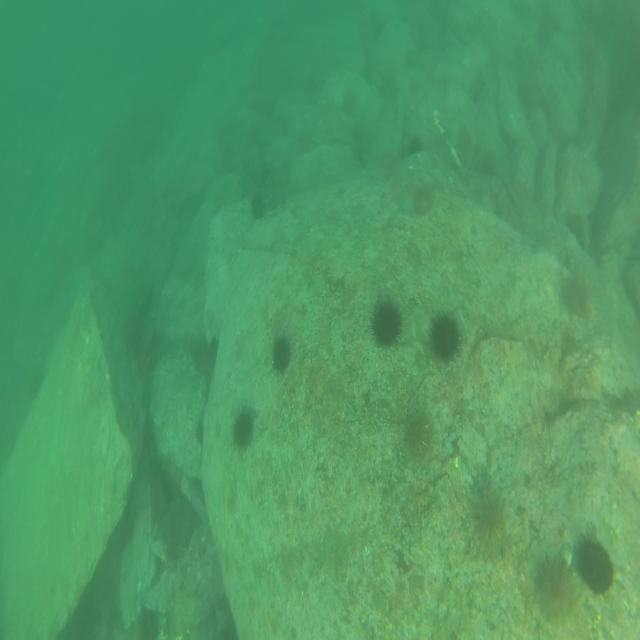echinus: (537, 550, 572, 622), (577, 536, 615, 594), (474, 490, 505, 559), (371, 300, 405, 350), (402, 409, 436, 458), (428, 311, 462, 357), (562, 280, 589, 320), (234, 408, 258, 450), (271, 337, 293, 370), (566, 213, 587, 246), (293, 126, 316, 153), (481, 147, 501, 177), (250, 189, 268, 220), (138, 610, 158, 637), (414, 187, 432, 216), (380, 66, 395, 100), (455, 123, 472, 152), (343, 84, 358, 116), (406, 134, 424, 158)
